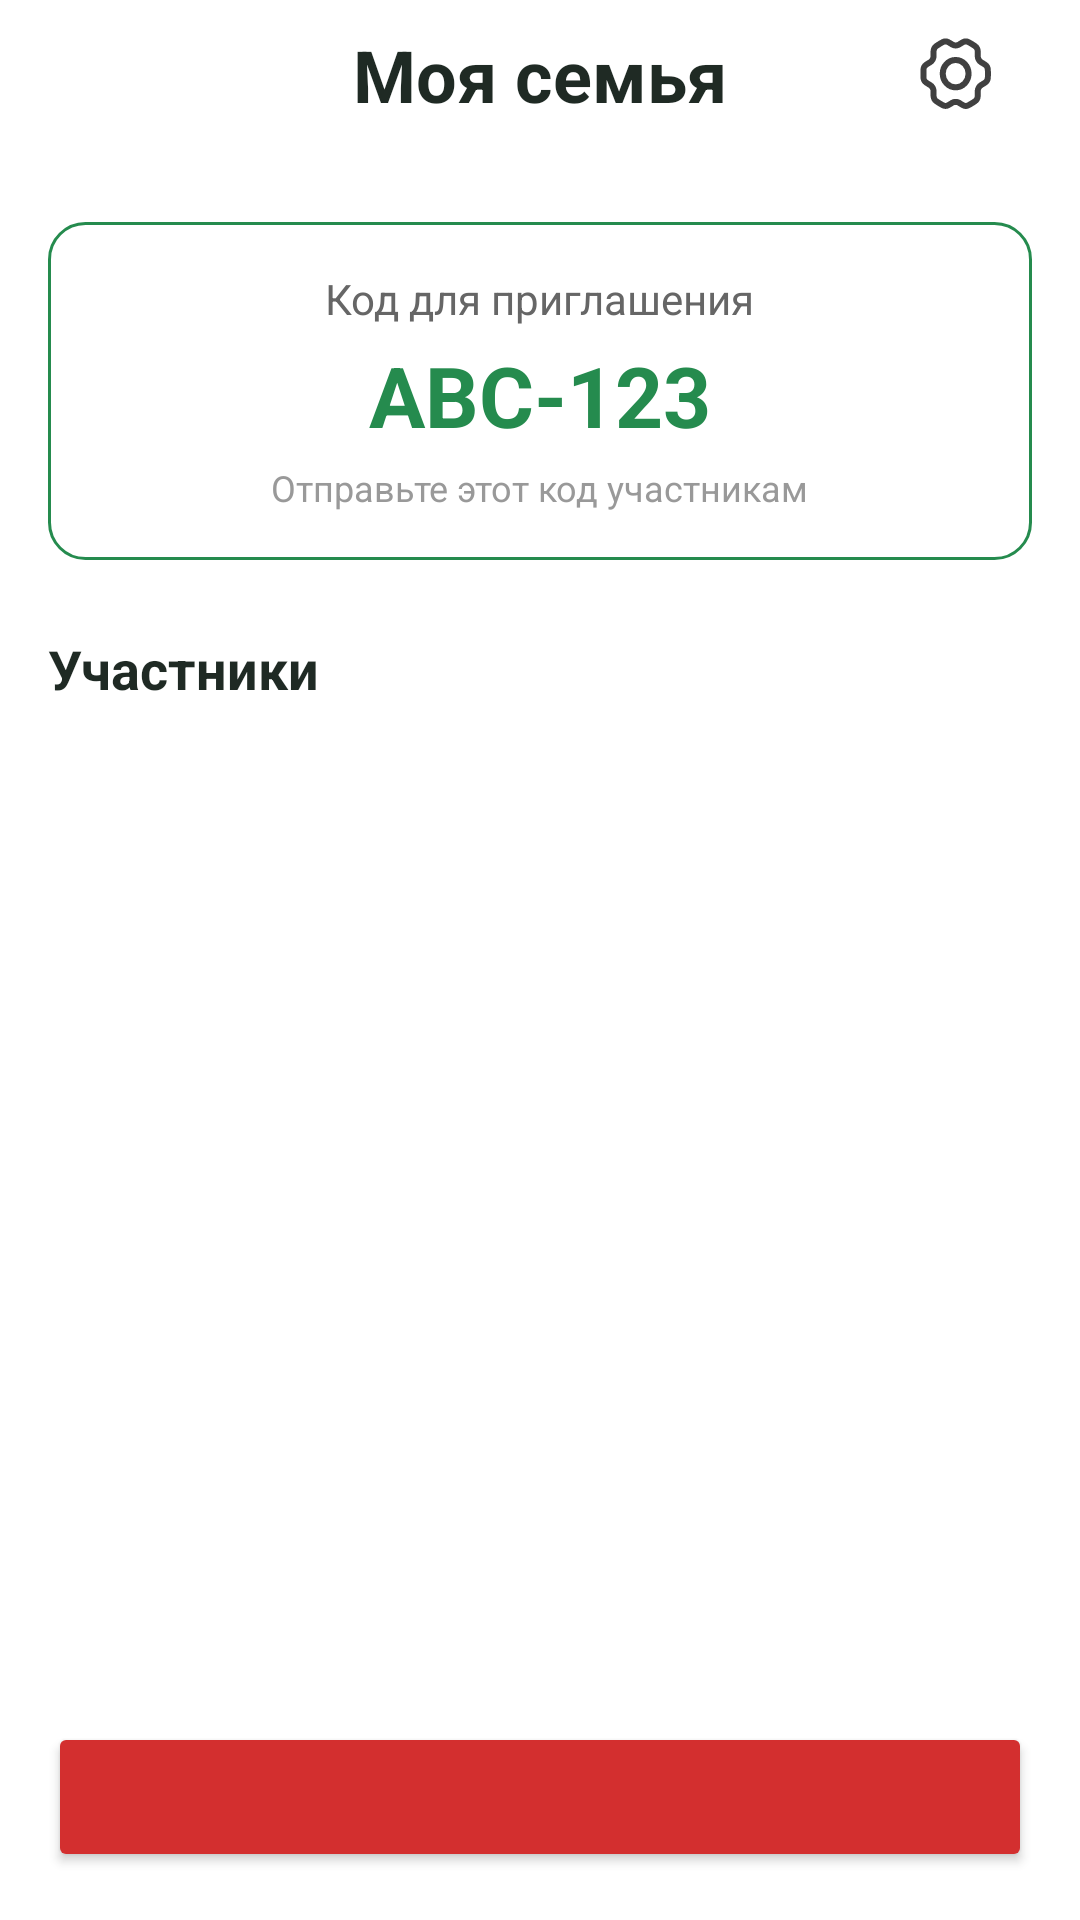

Where to tap for icons on this 1080 x 1920 app screen, as (x=x, y=y):
Настройки: (x=955, y=73)
